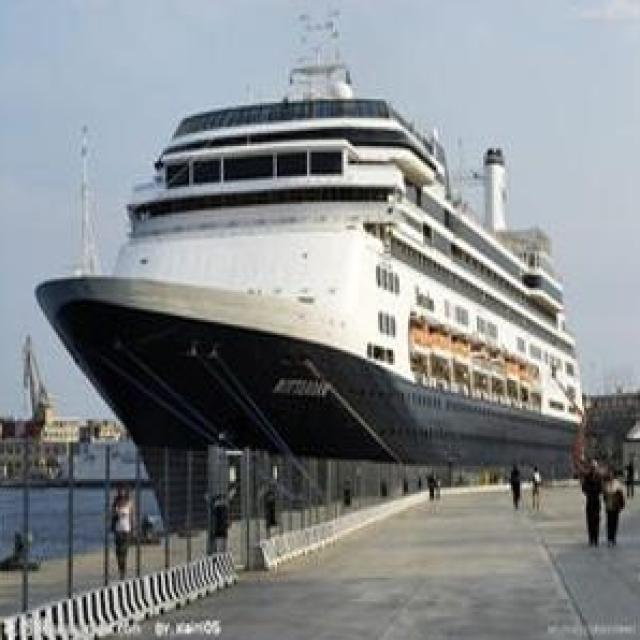passenger ship: (20, 52, 592, 483)
